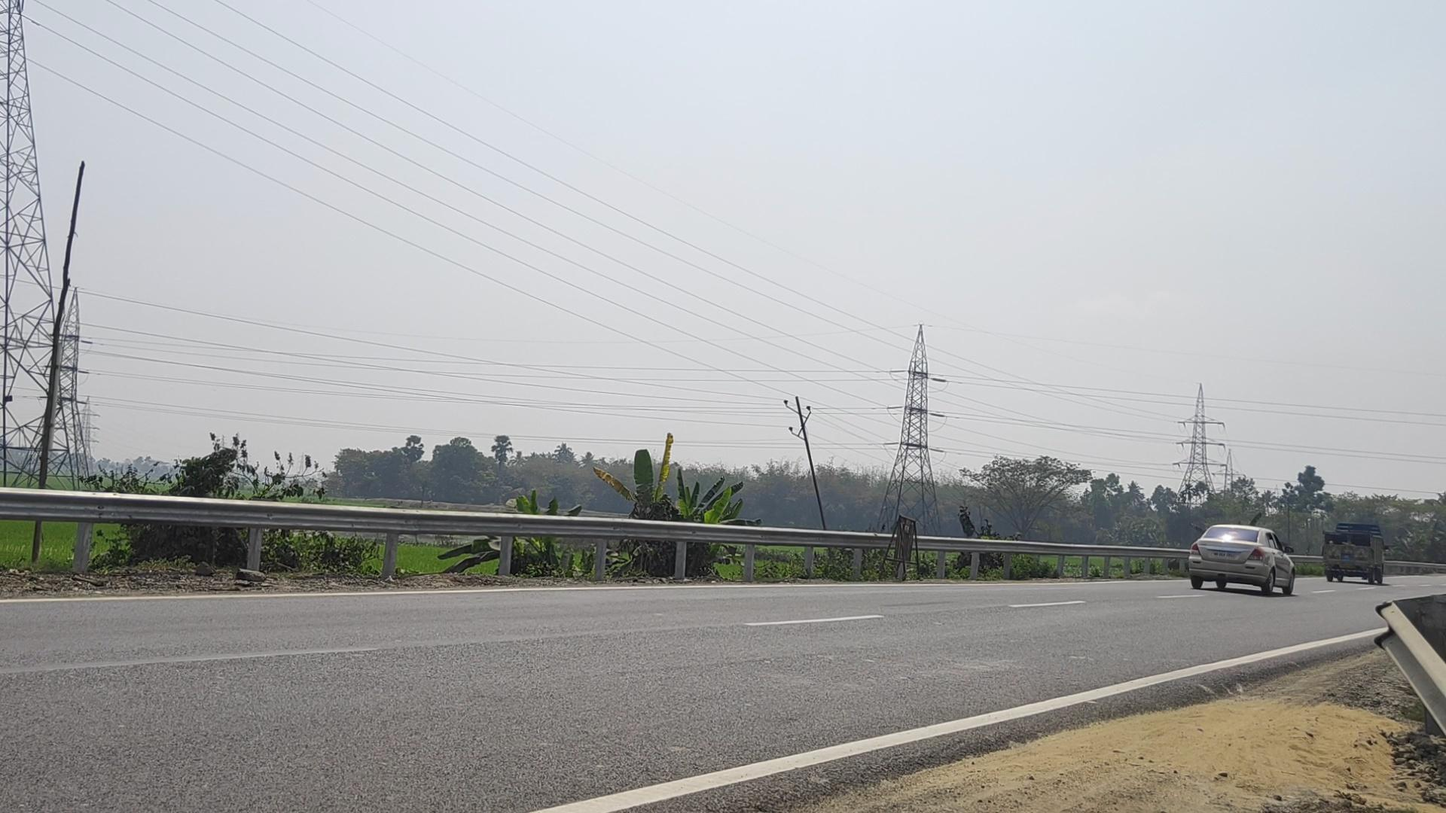car: (1188, 524, 1296, 597)
van: (1322, 522, 1390, 585)
